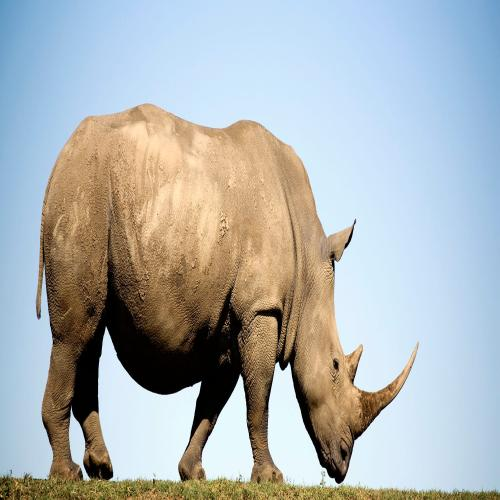rhino-endangered: (36, 104, 420, 487)
